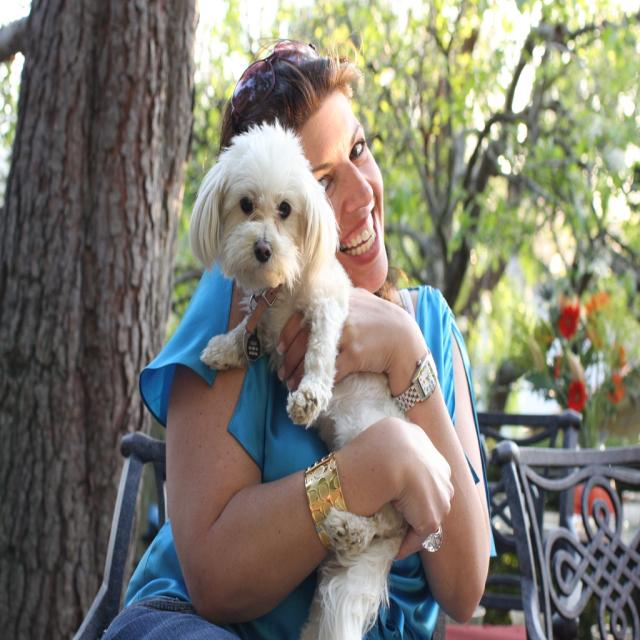Dog: (186, 115, 412, 638)
